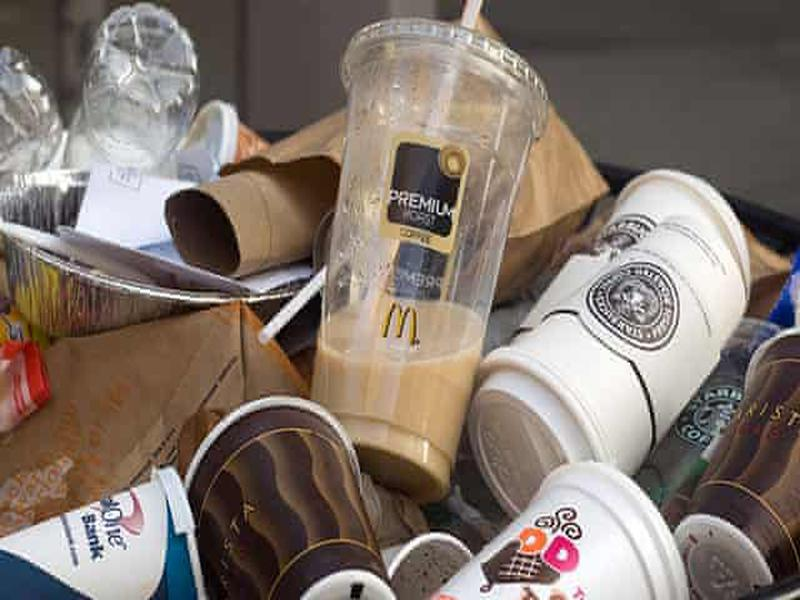cup: (308, 15, 556, 510), (466, 215, 738, 516), (183, 383, 411, 600), (2, 462, 215, 600)
